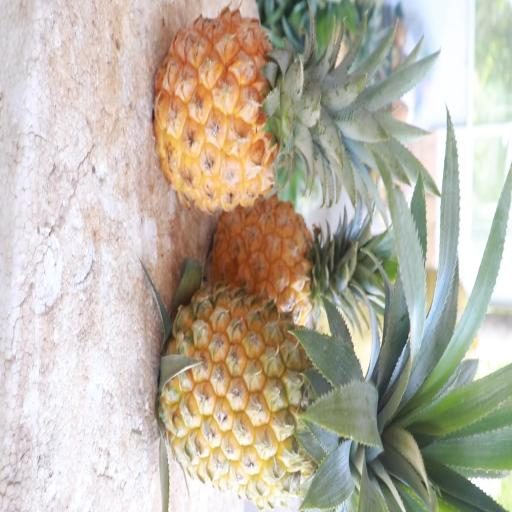Pineapple - v8 v1: (157, 282, 387, 512), (153, 0, 356, 218), (210, 195, 380, 333)
